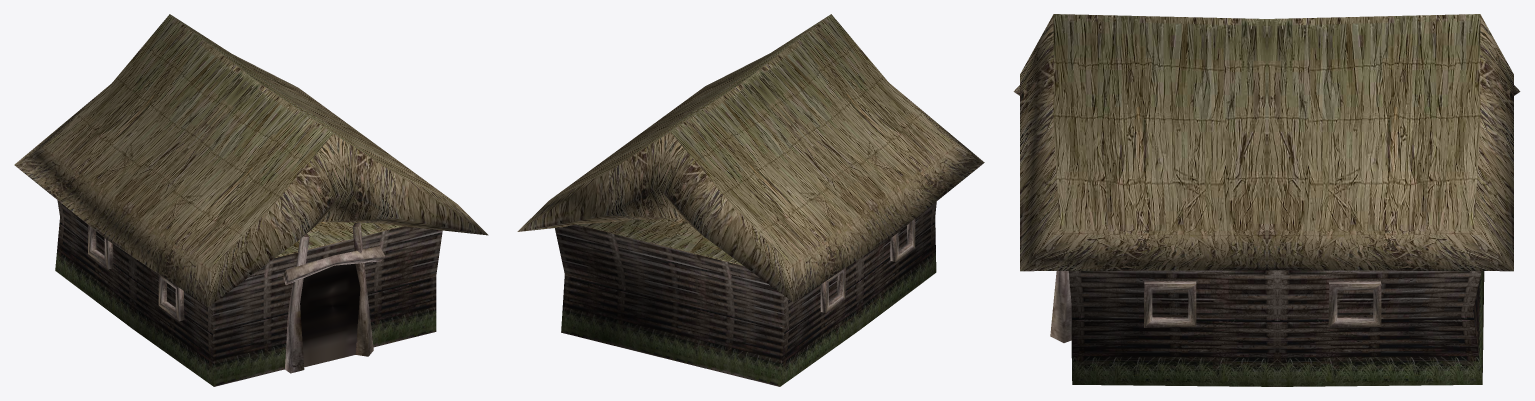
Rendered from house5-03.obj.
3 renders of one model, left to right at view 1: azimuth 30°, elevation 25°; view 2: azimuth 150°, elevation 25°; view 3: azimuth 270°, elevation 25°, orthographic. The views are drawn at different scales.
Size of the model in its own units: 7.39 by 5.65 by 8.63.
1 material, 1 textured.
